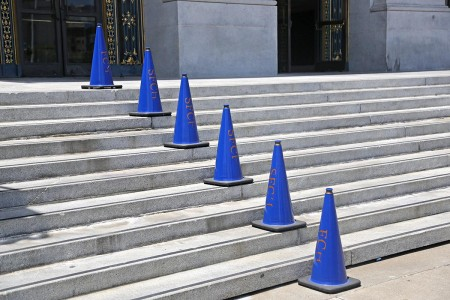cone: (295, 185, 362, 294), (252, 136, 308, 232), (201, 105, 256, 188), (162, 72, 211, 150), (127, 46, 173, 120), (80, 24, 125, 94)
